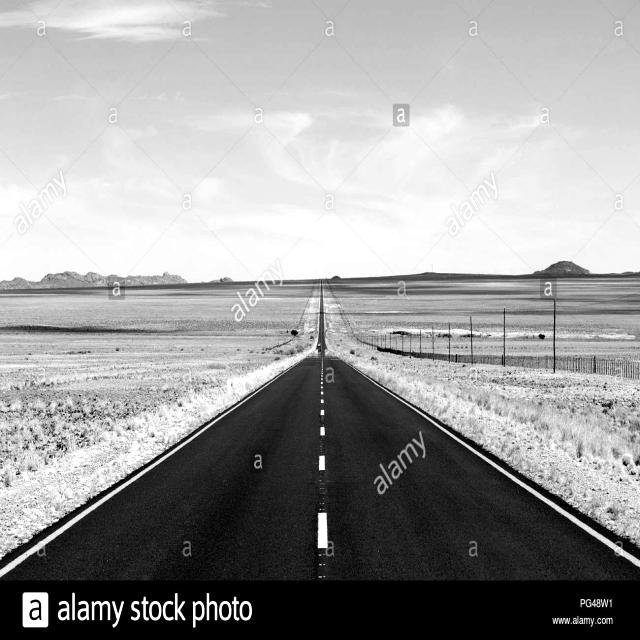cleat: (177, 208, 640, 640)
